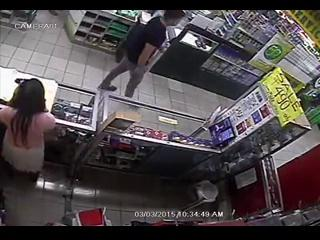Normal: (99, 11, 174, 98), (0, 78, 56, 186)
